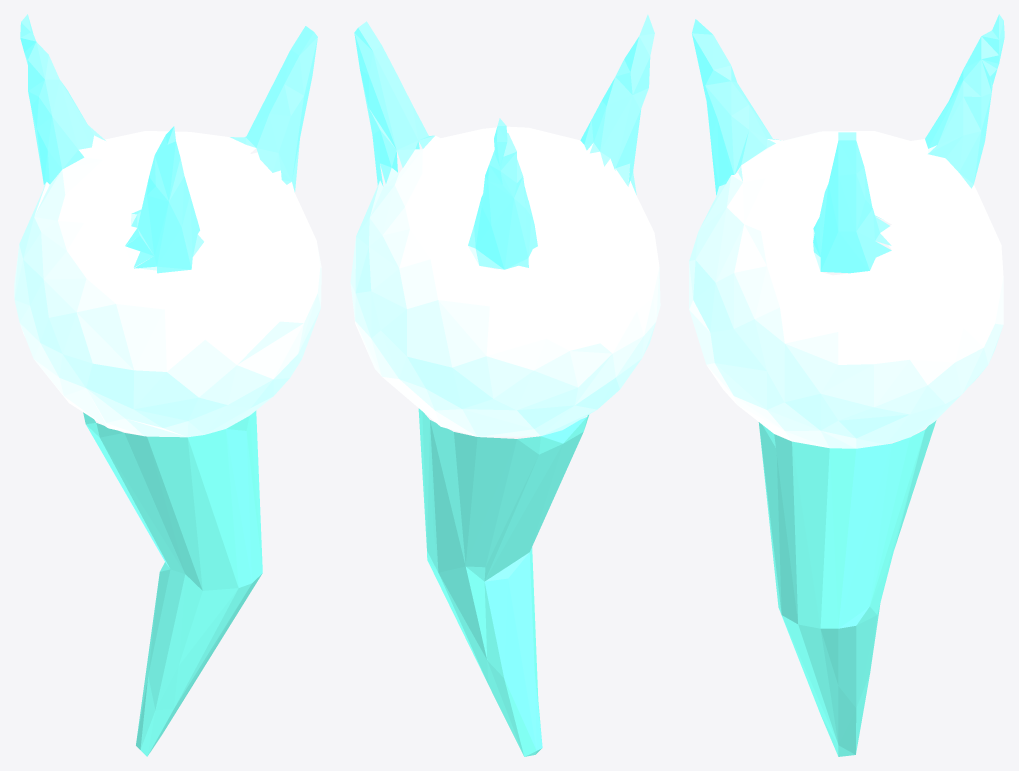
Rendered from spirit_choir_core.glb.
3 renders of one model, left to right at view 1: azimuth 30°, elevation 25°; view 2: azimuth 150°, elevation 25°; view 3: azimuth 270°, elevation 25°, orthographic. The views are drawn at different scales.
Visible parts, largest first — view 1: spirit_choir_core; view 2: spirit_choir_core; view 3: spirit_choir_core.
Boxes of the visible parts, left/top/right/bottom form: spirit_choir_core: left=14, top=14, right=321, bottom=756; spirit_choir_core: left=350, top=14, right=660, bottom=756; spirit_choir_core: left=689, top=14, right=1004, bottom=756.
Size of the model in its own units: 0.3744 by 0.892 by 0.3536.
